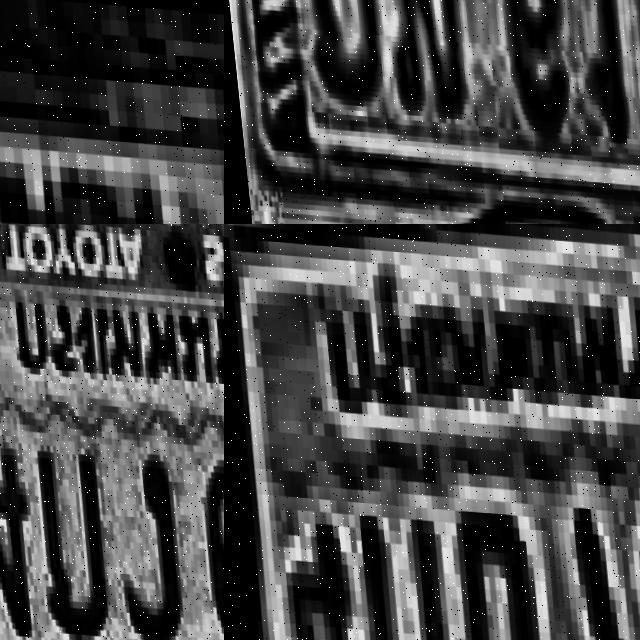license-plate: (224, 224, 640, 640), (0, 224, 224, 640), (224, 0, 640, 215), (0, 55, 224, 224)
